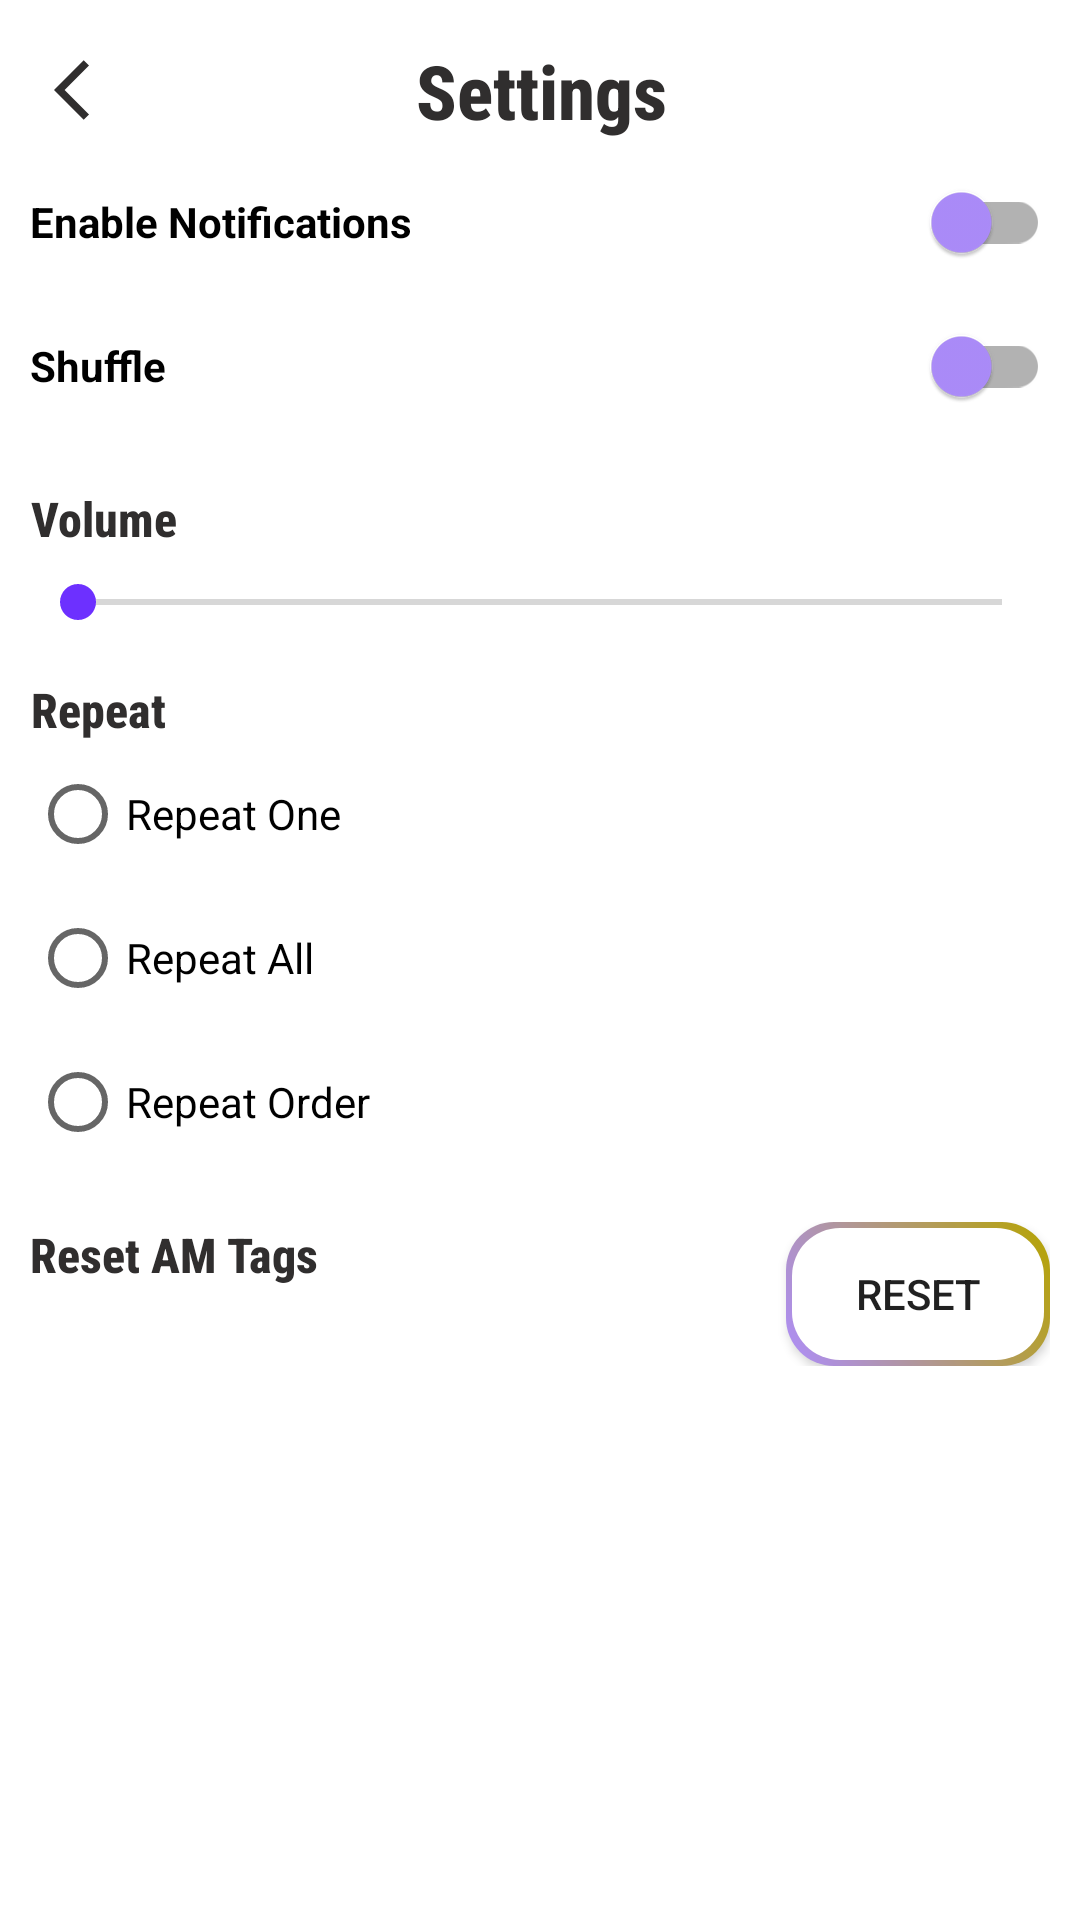

Icons on this 1080px×1920px Android screen, each with the point to tap as (x,y):
back: (71,90)
